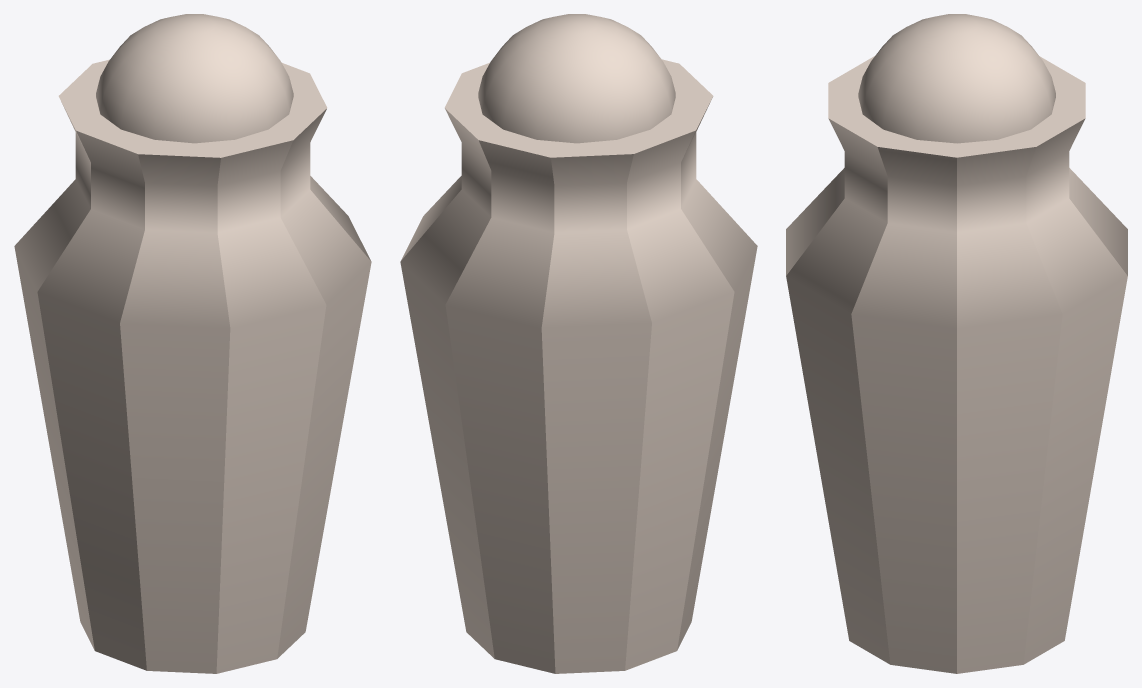
Rendered from urn.fbx.
The picture shows the model from 3 angles, left to right: view 1: azimuth 30°, elevation 25°; view 2: azimuth 150°, elevation 25°; view 3: azimuth 270°, elevation 25°; orthographic projection.
Parts seen in each view (by area): view 1: urn, pSphere1; view 2: urn, pSphere1; view 3: urn, pSphere1.
Boxes of the visible parts, bbox=[...] form: urn: bbox=[14, 59, 371, 673]; pSphere1: bbox=[96, 14, 293, 143]; urn: bbox=[400, 59, 757, 673]; pSphere1: bbox=[478, 14, 675, 143]; urn: bbox=[786, 56, 1127, 673]; pSphere1: bbox=[858, 14, 1055, 143].
Size of the model in its own units: 6.27 by 11.62 by 5.97.
